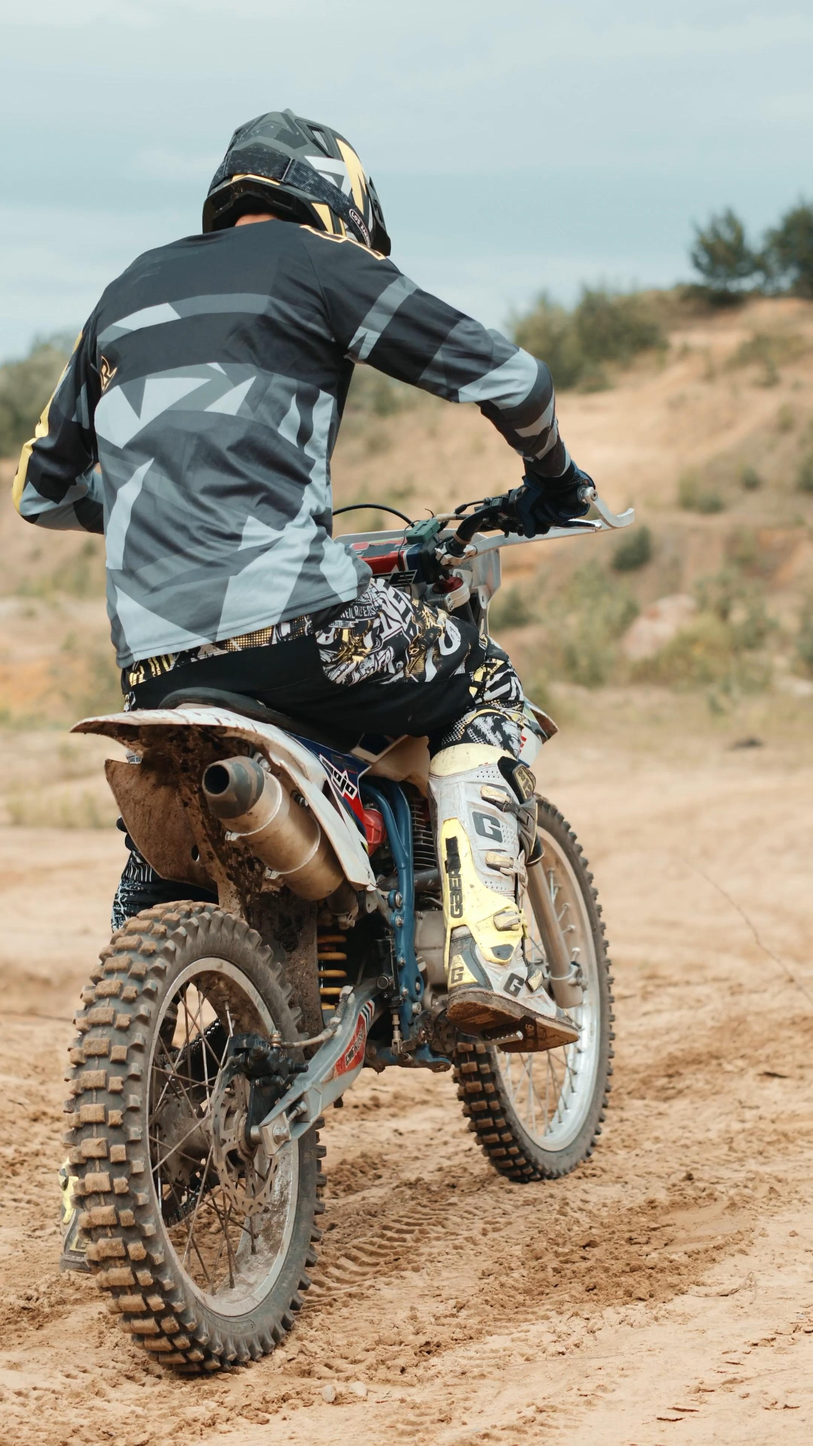driver: (12, 106, 640, 1379)
helmet: (201, 106, 393, 257)
